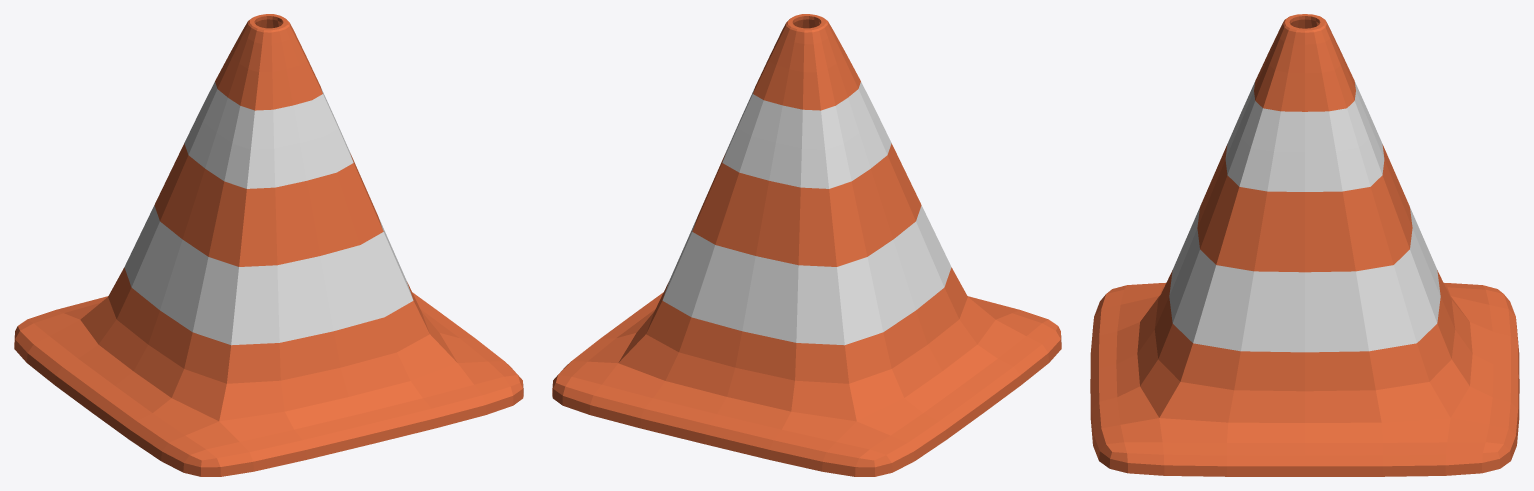
File: plot_petit.fbx
The picture shows the model from 3 angles, left to right: view 1: azimuth 30°, elevation 25°; view 2: azimuth 150°, elevation 25°; view 3: azimuth 270°, elevation 25°; orthographic projection. The views are drawn at different scales.
Parts seen in each view (by area): view 1: Plot_petit; view 2: Plot_petit; view 3: Plot_petit.
Boxes of the visible parts, bbox=[...] form: Plot_petit: bbox=[14, 14, 523, 476]; Plot_petit: bbox=[552, 14, 1061, 476]; Plot_petit: bbox=[1090, 14, 1519, 476].
Bounding box in the file's own units: 37 × 34.63 × 37.
